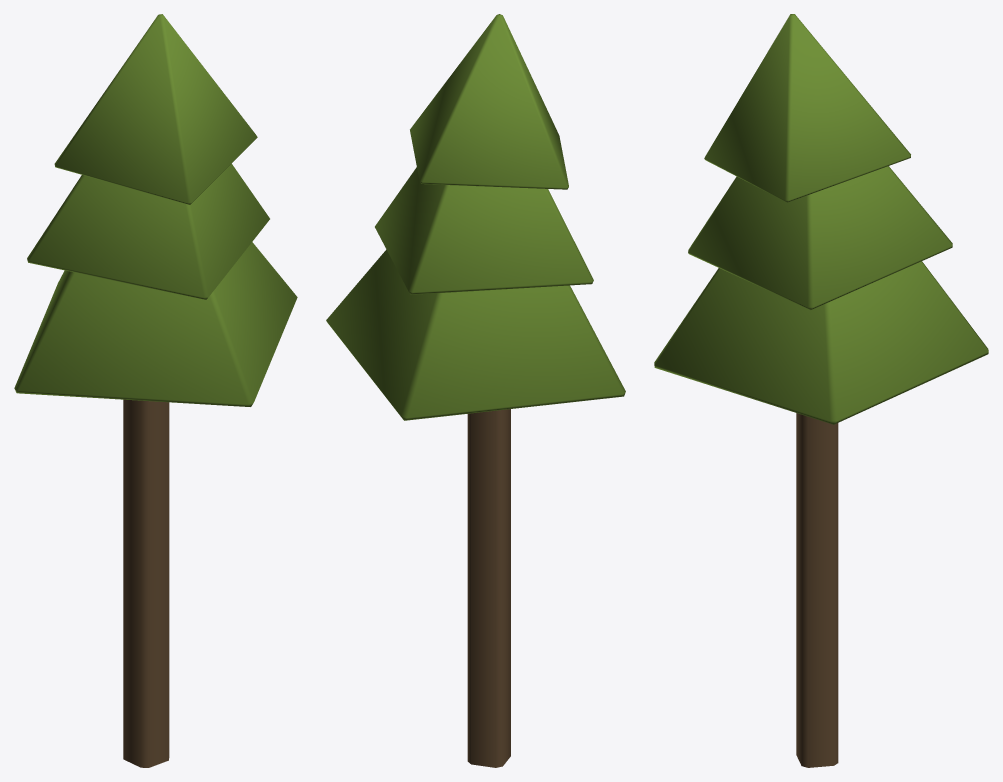
Rendered from PRO_Tree_01.FBX.
The picture shows the model from 3 angles, left to right: view 1: azimuth 30°, elevation 25°; view 2: azimuth 150°, elevation 25°; view 3: azimuth 270°, elevation 25°; orthographic projection. The views are drawn at different scales.
Visible parts, largest first — view 1: PRO_Tree_01; view 2: PRO_Tree_01; view 3: PRO_Tree_01.
Boxes of the visible parts, x1,y1,x2,y2 form: PRO_Tree_01: (14,14,297,767); PRO_Tree_01: (326,14,625,767); PRO_Tree_01: (654,14,988,767).
Size of the model in its own units: 2.02 by 4.97 by 2.02.
